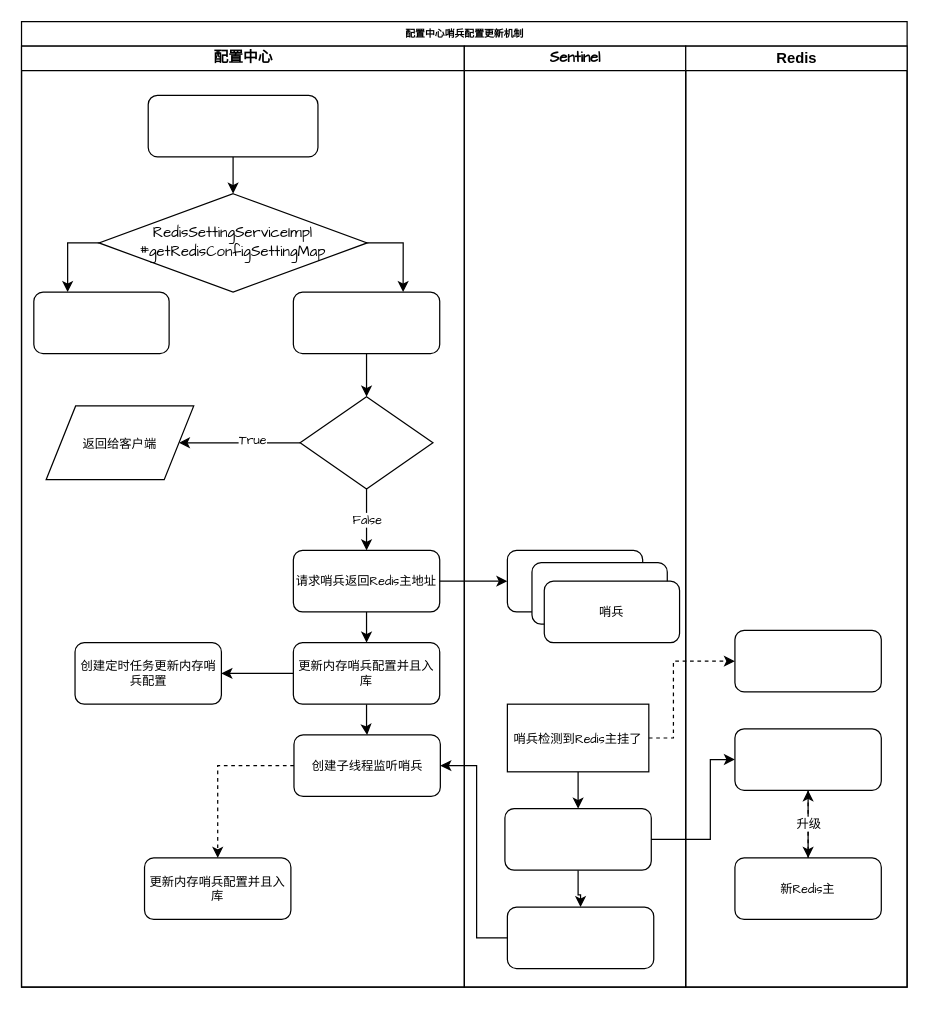
The diagram is 929 pixels wide and 1009 high, and some of its shapes have lost their labels. The shapes that lost their labels are listed below. From the top down, each one's centre as x and y in pixels, then its label:
(x=232, y=125): 客户端请求Redis主地址
(x=101, y=322): shard 模式
(x=366, y=322): sentinel 模式
(x=366, y=442): 内存有哨兵配置
(x=807, y=660): Redis主失联
(x=807, y=759): Redis从
(x=577, y=838): 哨兵选出一个新Redis主
(x=580, y=937): 哨兵publish
